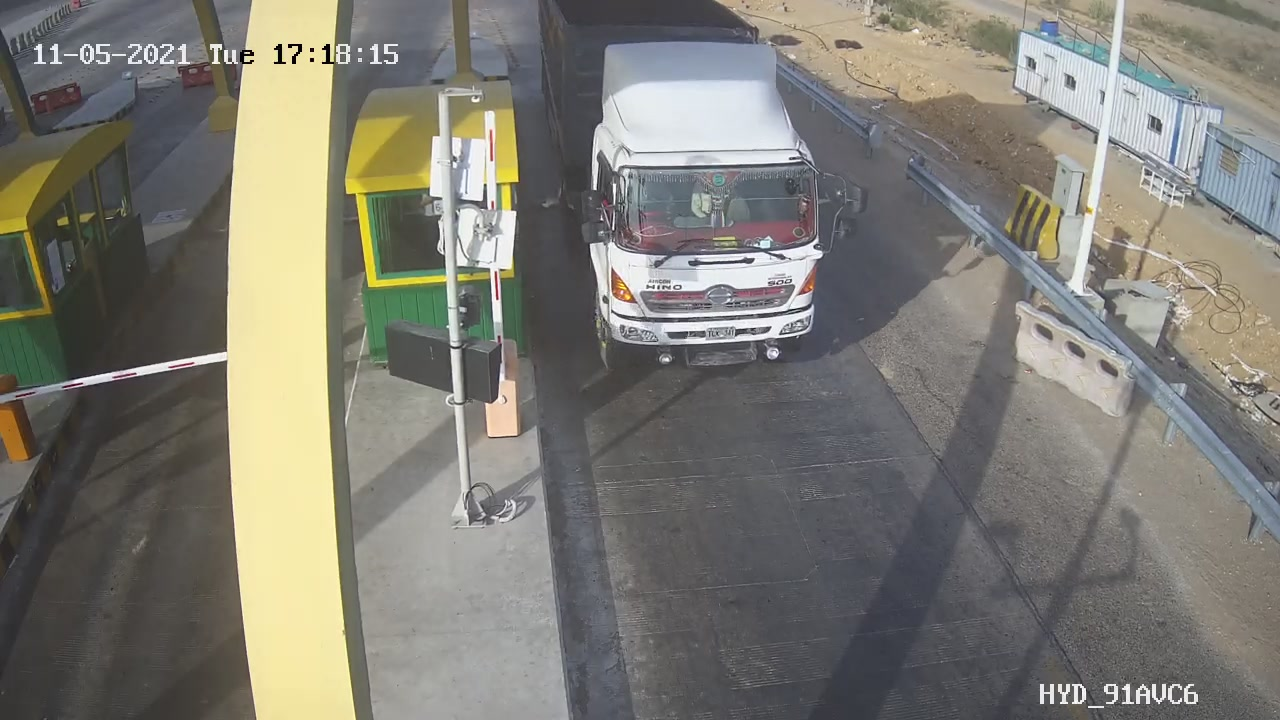F6: (524, 1, 883, 395)
